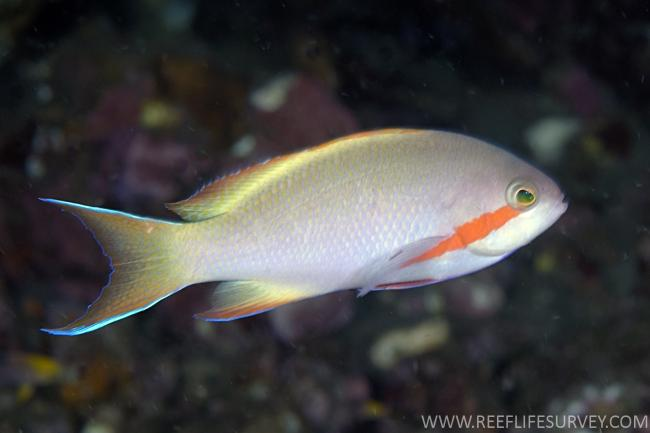fish: (37, 126, 569, 337)
